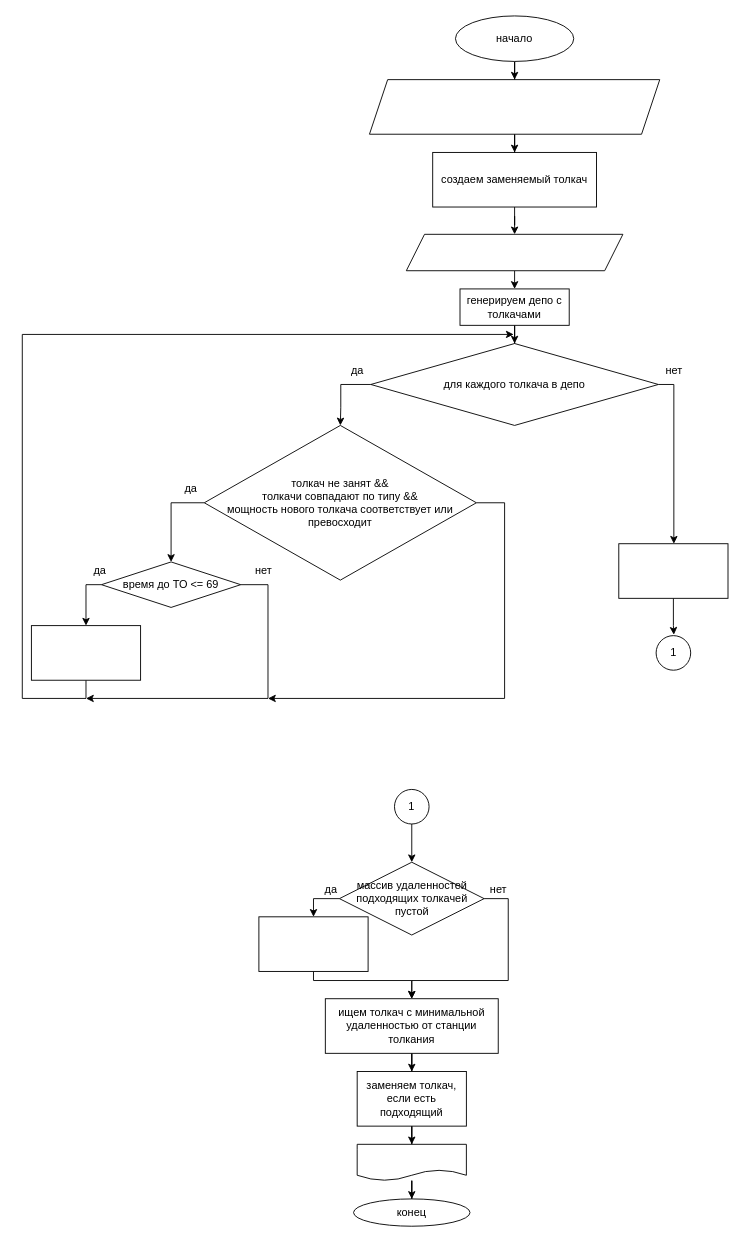
Some shapes in this 744 by 1242 pixel diagram are drawn without their labels. The centre of each missing label's shape, as x and y in pixels:
вводим начальные данные для депо: the point at 514,252
вводим начальные данные заменяемого толкача: the point at 514,106
выводим результат о замене толкача: the point at 411,1162
добавляем все удаленности толкачей в массив: the point at 313,943
добавляем подходящий толкач в массив: the point at 85,652
заносим удаленность толкачей в массив: the point at 673,570
